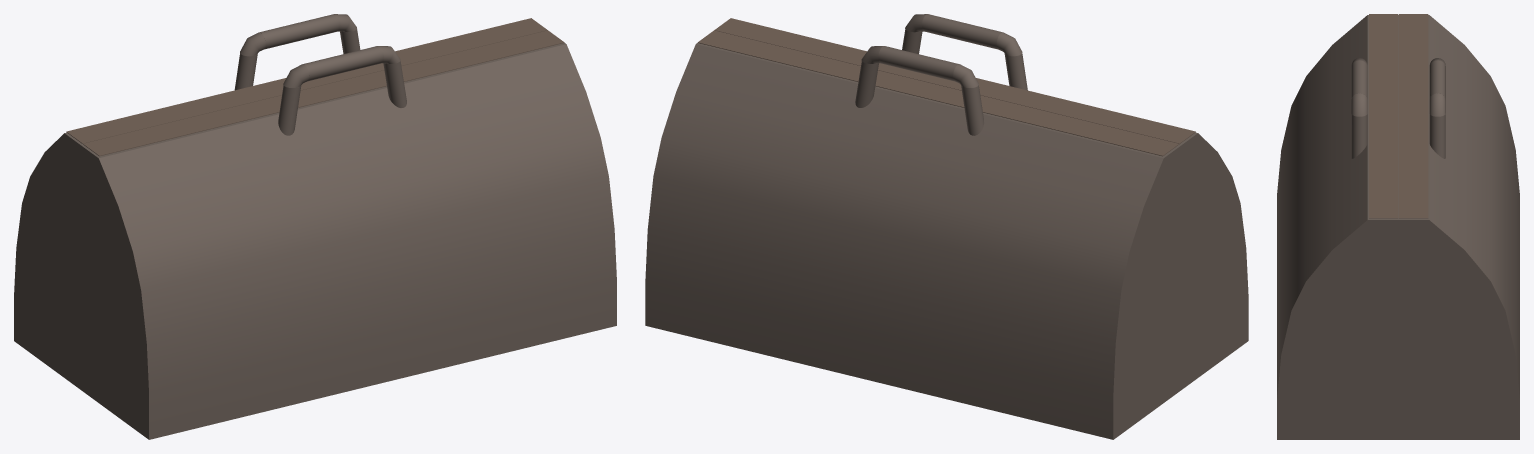
File: smallBriefcaseProp.fbx
The picture shows the model from 3 angles, left to right: view 1: azimuth 30°, elevation 25°; view 2: azimuth 150°, elevation 25°; view 3: azimuth 270°, elevation 25°; orthographic projection. The views are drawn at different scales.
Visible parts, largest first — view 1: CaseAndHandles, Flaps; view 2: CaseAndHandles, Flaps; view 3: CaseAndHandles, Flaps.
Part boxes in pixels (x1,y1,x2,y2): CaseAndHandles: (14,14,616,439); Flaps: (66,18,564,156); CaseAndHandles: (645,14,1248,439); Flaps: (697,18,1195,156); CaseAndHandles: (1277,15,1519,439); Flaps: (1369,14,1428,218).
Bounding box in the file's own units: 4 × 2.39 × 2.
